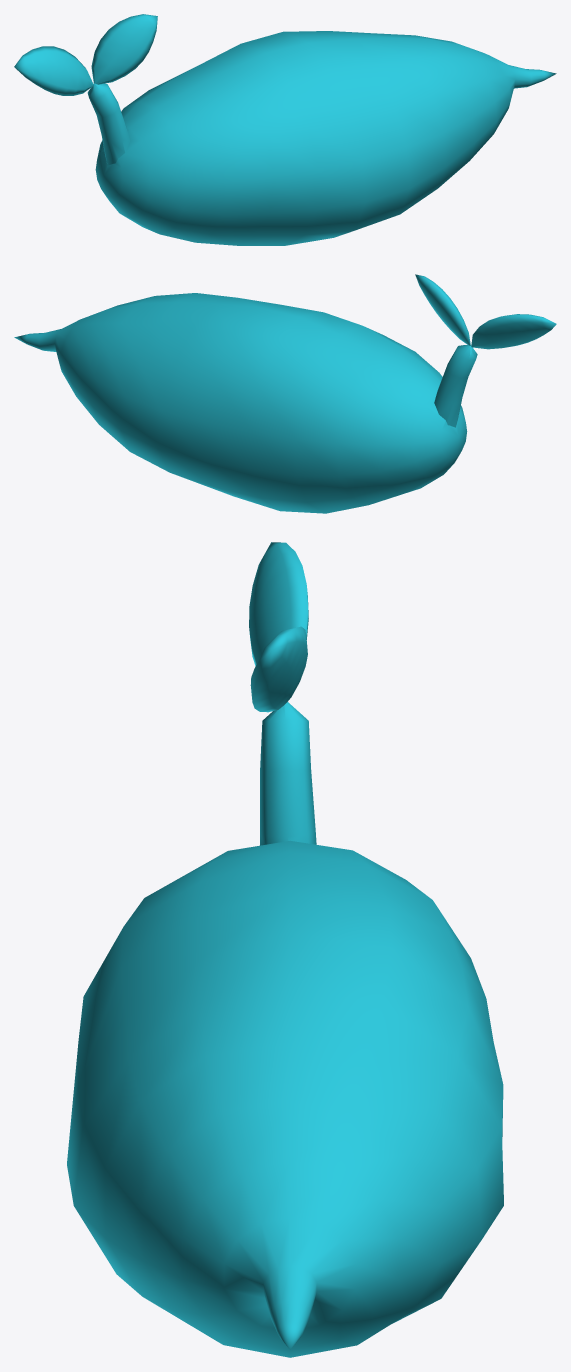
Rendered from Holo_Crop.glb.
The picture shows the model from 3 angles, top to bottom: view 1: azimuth 30°, elevation 25°; view 2: azimuth 150°, elevation 25°; view 3: azimuth 270°, elevation 25°; orthographic projection. The views are drawn at different scales.
Parts seen in each view (by area): view 1: Holo_Crop; view 2: Holo_Crop; view 3: Holo_Crop.
Boxes of the visible parts, x1,y1,x2,y2 form: Holo_Crop: [14, 14, 556, 245]; Holo_Crop: [14, 274, 556, 513]; Holo_Crop: [67, 542, 503, 1357].
Size of the model in its own units: 0.86 by 0.3829 by 0.3025.
